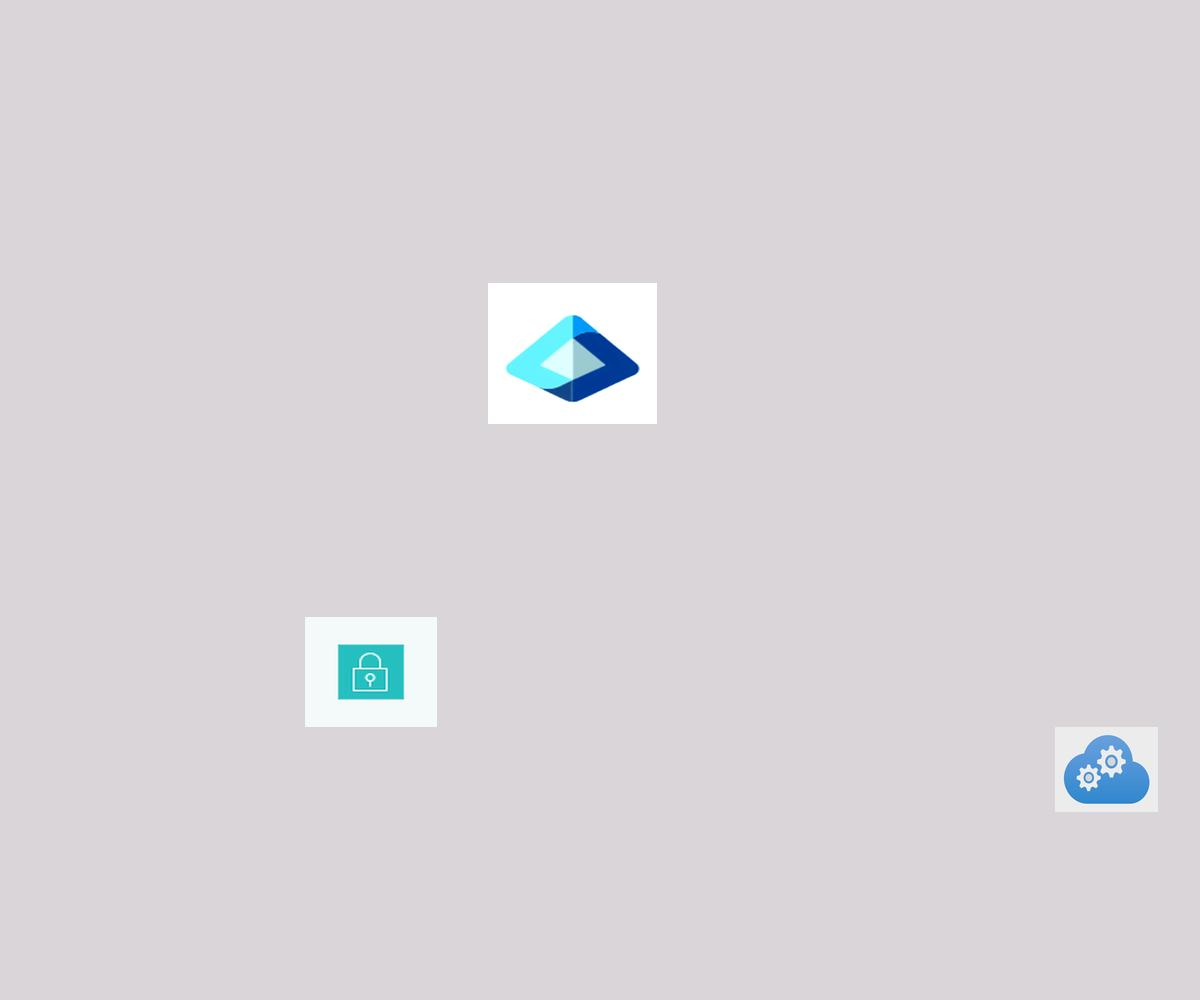AWS-Private-subnet: (305, 617, 437, 727)
Azure_cloud_services: (1055, 727, 1158, 812)
Azure_microsoft_entra: (488, 283, 657, 424)
